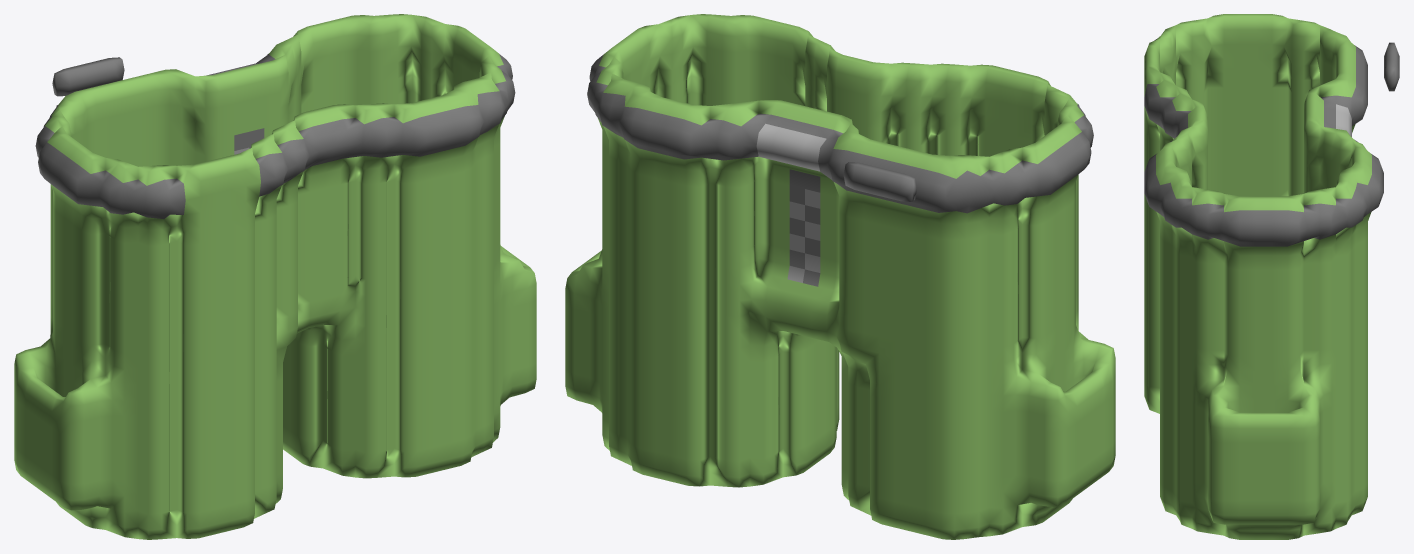
The picture shows the model from 3 angles, left to right: view 1: azimuth 30°, elevation 25°; view 2: azimuth 150°, elevation 25°; view 3: azimuth 270°, elevation 25°; orthographic projection. The views are drawn at different scales.
Bounding box in the file's own units: 1.6 × 1.18 × 0.8.
